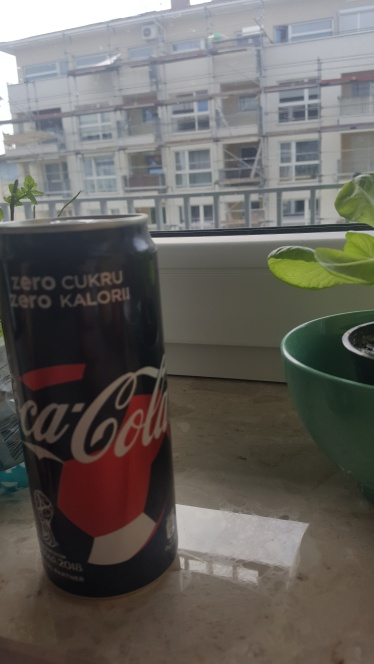colazero: (1, 206, 183, 601)
